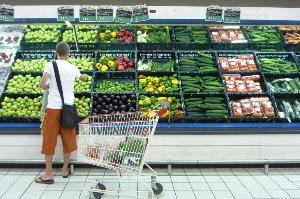bell_pepper: (137, 94, 185, 120), (138, 74, 182, 92), (96, 52, 136, 70), (98, 29, 134, 44)
carrot: (282, 30, 300, 46)
cucumber: (184, 93, 226, 117), (183, 71, 223, 93), (177, 53, 219, 72), (174, 26, 212, 44), (263, 54, 295, 72), (272, 99, 300, 119), (250, 28, 283, 44), (268, 76, 300, 92)
eggplant: (94, 94, 136, 114)
lime: (96, 72, 134, 92)
pear: (0, 96, 48, 118), (6, 72, 48, 94), (7, 54, 54, 72), (22, 25, 57, 45), (69, 93, 93, 116), (63, 29, 97, 45), (71, 72, 93, 94), (66, 56, 96, 70)
tomato: (231, 96, 275, 116), (222, 76, 268, 92), (220, 53, 258, 71), (212, 28, 246, 44)
